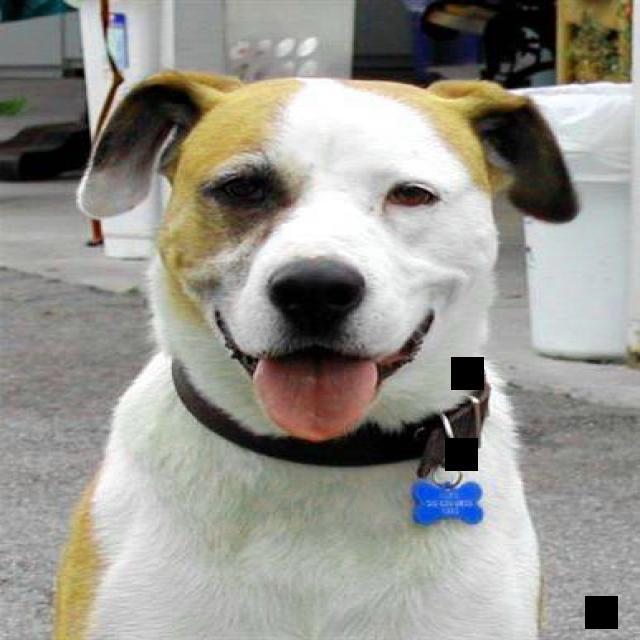adult_dog: (49, 66, 582, 640)
